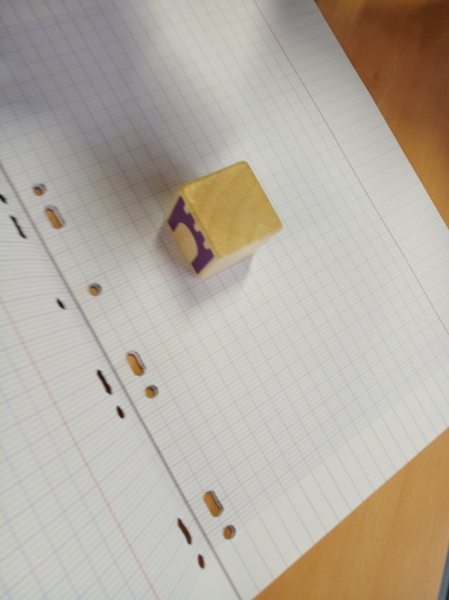violet: (167, 181, 252, 273)
